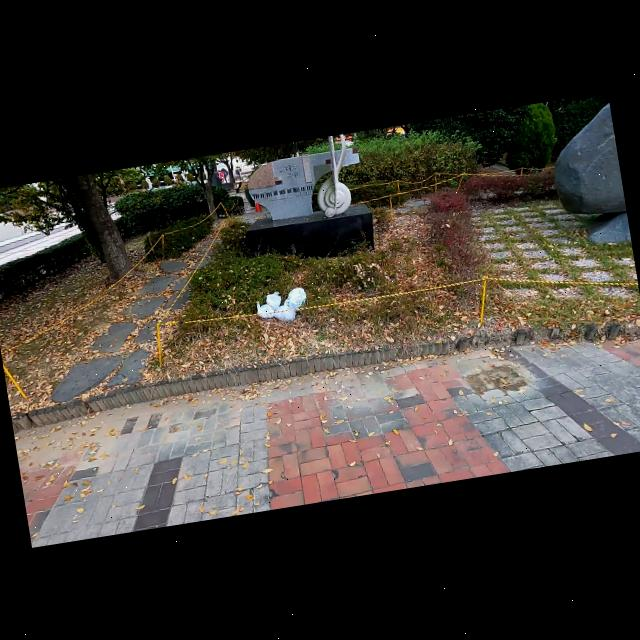trash: (282, 286, 308, 311), (274, 303, 298, 324), (254, 299, 275, 320), (266, 290, 284, 312)
